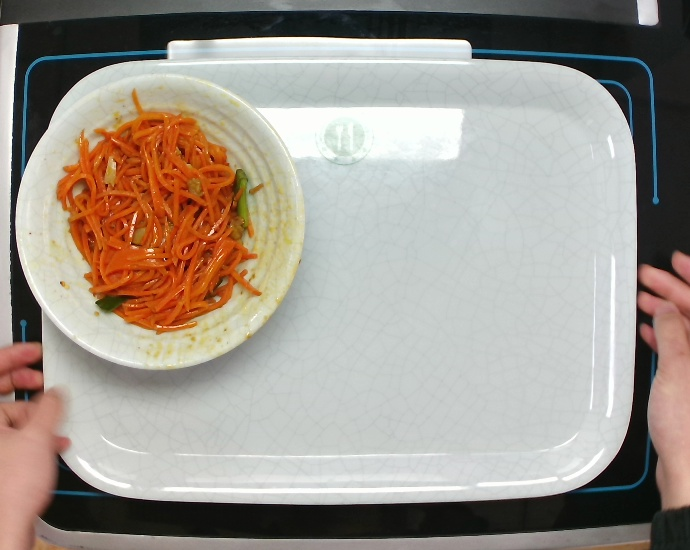JYsf-Xiao_Tang_Wan: (8, 64, 328, 373)
